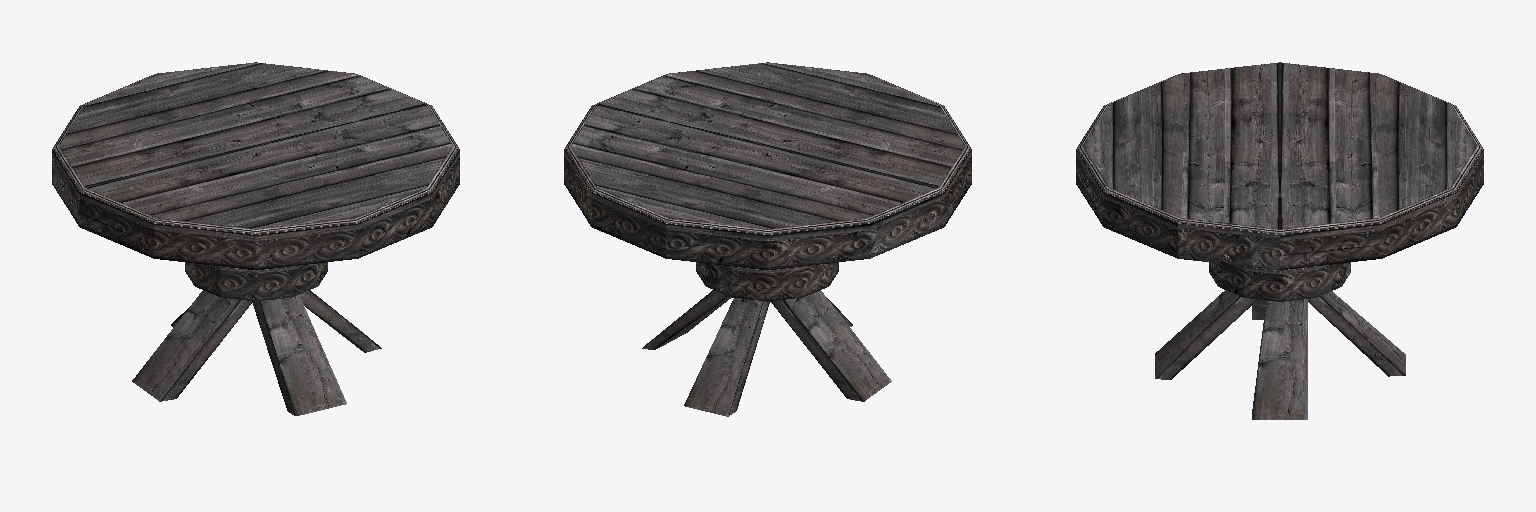
3 renders of one model, left to right at view 1: azimuth 30°, elevation 25°; view 2: azimuth 150°, elevation 25°; view 3: azimuth 270°, elevation 25°, orthographic.
Parts seen in each view (by area): view 1: Default_Layer; view 2: Default_Layer; view 3: Default_Layer.
Boxes of the visible parts, x1=… form: Default_Layer: x1=52, y1=62, x2=459, y2=415; Default_Layer: x1=564, y1=62, x2=971, y2=416; Default_Layer: x1=1076, y1=62, x2=1483, y2=419.
Size of the model in its own units: 1.36 by 0.8081 by 1.36.
Materials: 1 (1 with a texture image).